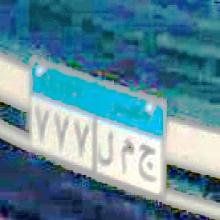7: (72, 122, 92, 157), (32, 107, 50, 141), (52, 116, 70, 149)
jeem: (137, 145, 159, 185)
laam: (99, 132, 115, 170)
meem: (116, 139, 136, 176)
